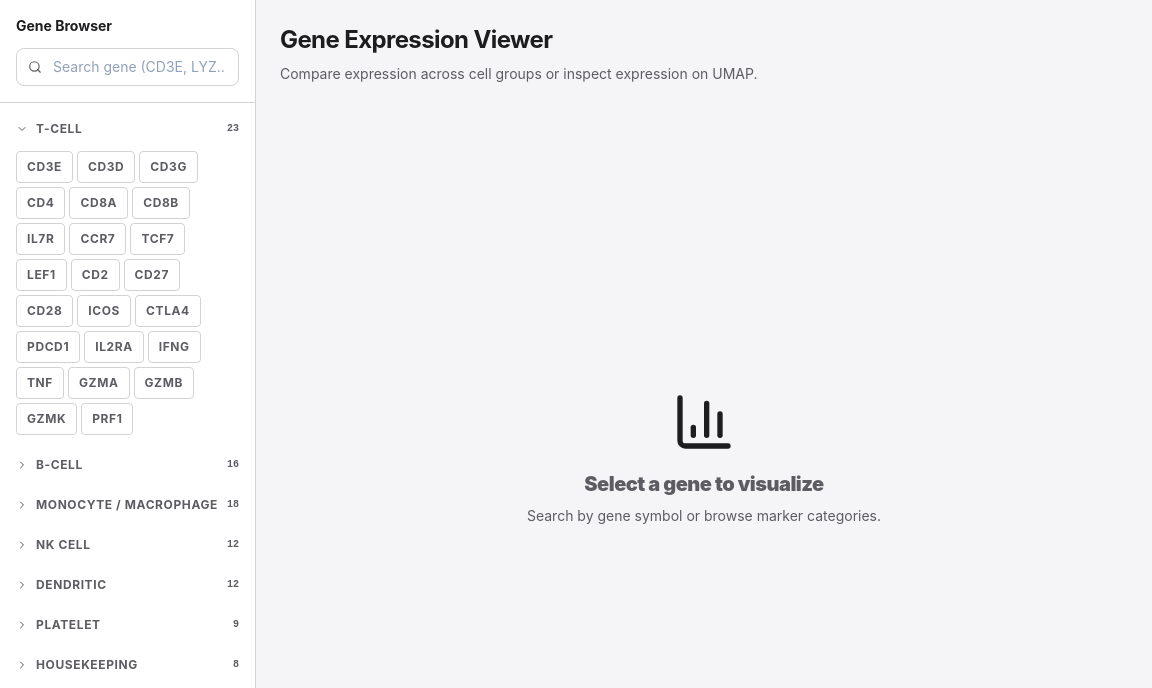
Test: uses the shared UMAP prerequisite instead of rendering blank FeaturePlot axes
Click the button "CD3E" at (44, 167), box [16,151,73,183]
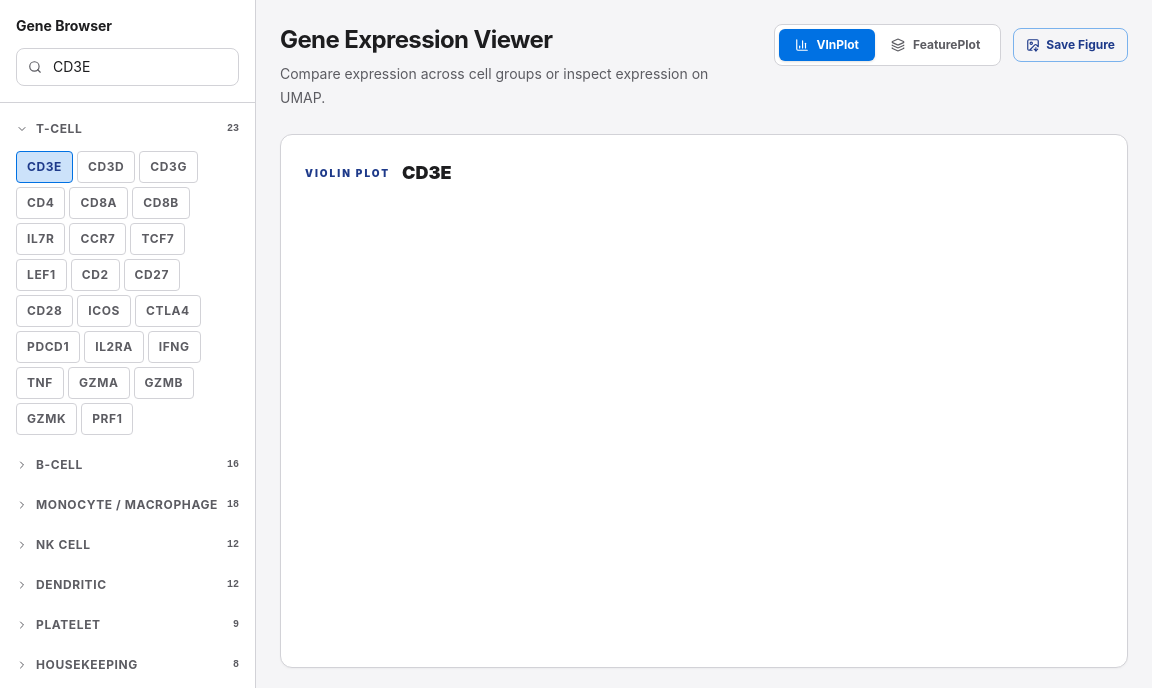
Click the button "FeaturePlot" at (936, 45), box [875,29,996,61]
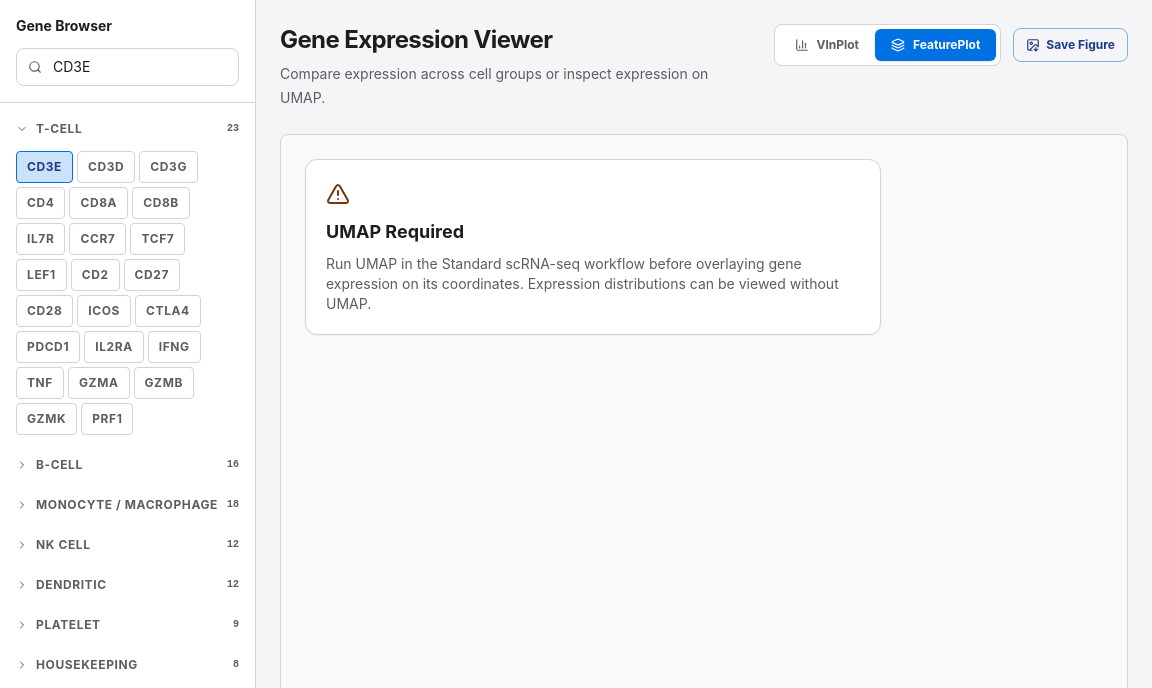
Expected: the heading "UMAP Required" is shown, [326,221,464,242]
Expected: the text "Run UMAP in the Standard scRNA-seq workflow" is shown, [326,255,839,312]
